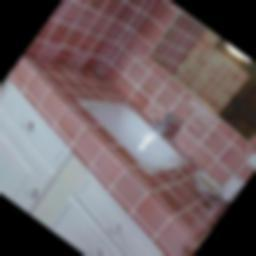Lavamanos: (65, 71, 209, 199)
